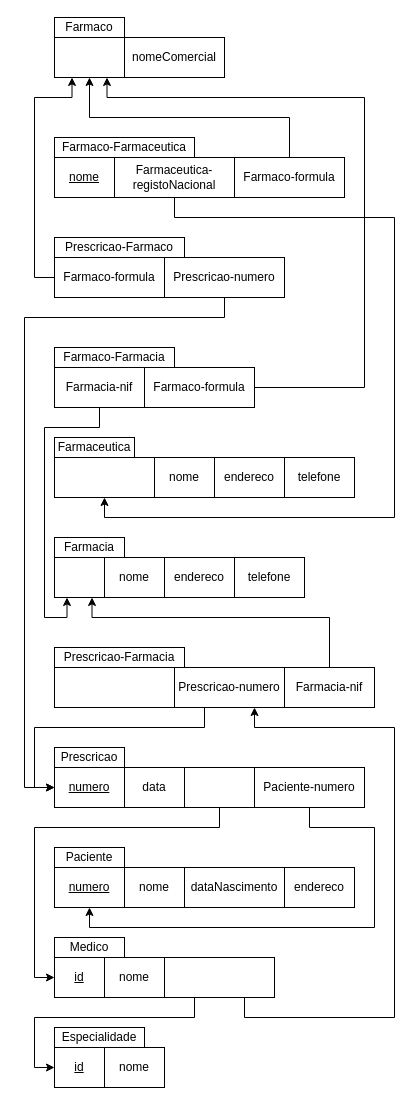
The diagram is 420 pixels wide and 1105 high, and some of its shapes have lost their labels. Here are the shapes that lost their labels. From the top down, the centre of each, then its label:
At [89,57]: "formula".
At [104,477]: "registoNacional".
At [79,577]: "nif".
At [114,687]: "dataProcessamento".
At [219,787]: "Medico-id".
At [219,977]: "Especialidade-id".
